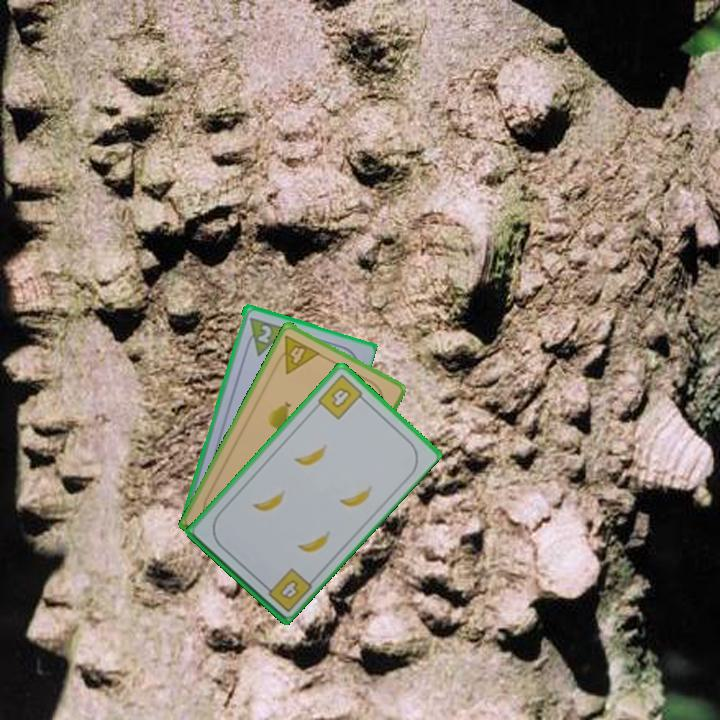2p: (241, 313, 288, 358)
4b: (314, 371, 369, 423), (259, 564, 315, 615)
4p: (271, 331, 323, 376)
